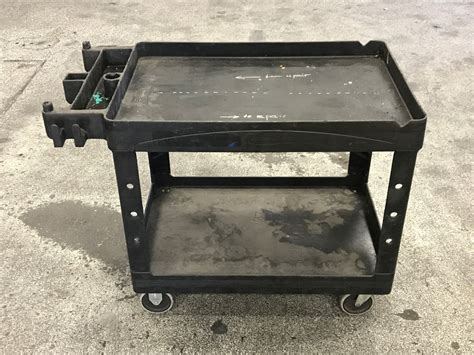Carts: (42, 39, 429, 318)
